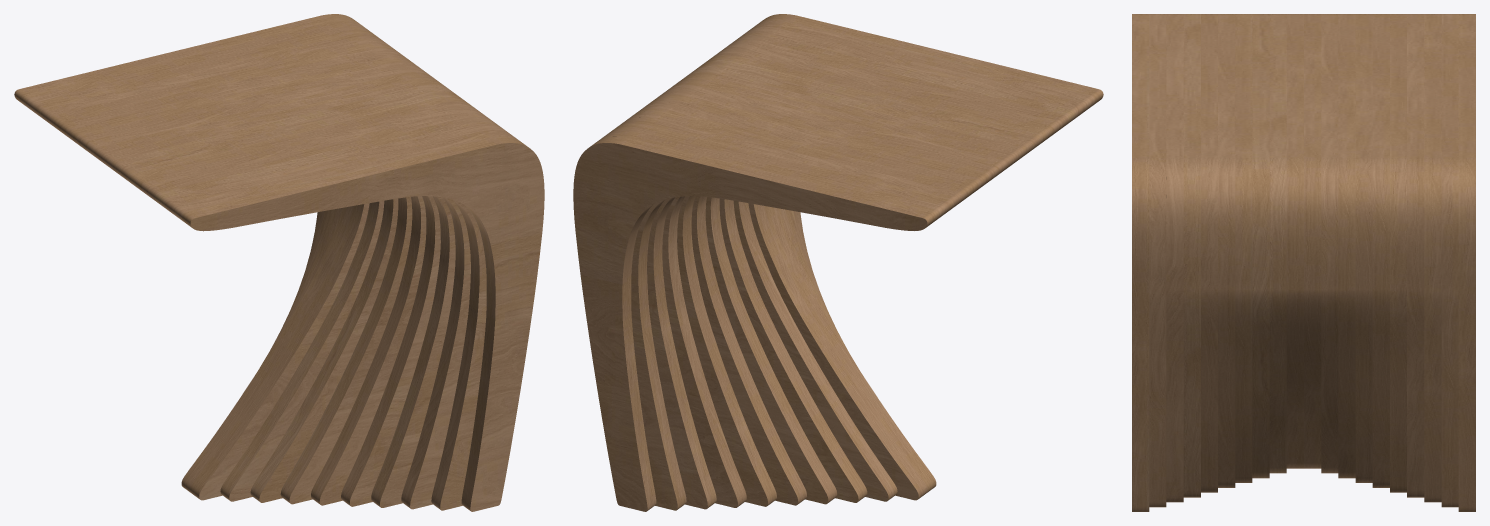
File: .fbx 1024 Woodbang Touchey side table.fbx
3 views of the same model, side by side, from view 1: azimuth 30°, elevation 25°; view 2: azimuth 150°, elevation 25°; view 3: azimuth 270°, elevation 25° (orthographic). The views are drawn at different scales.
Visible parts, largest first — view 1: Object_10, Object_2, Object_3, Object_4, Object_1, Object_5, Object_6, Object_7, Object_8, Object_9, Object_11, Object_12 (+8 smaller); view 2: Object_20, Object_11, Object_12, Object_13, Object_14, Object_15, Object_16, Object_17, Object_18, Object_19, Object_2, Object_3 (+8 smaller); view 3: Object_20, Object_10, Object_19, Object_9, Object_18, Object_8, Object_17, Object_7, Object_15, Object_5, Object_14, Object_1 (+8 smaller).
Part boxes in pixels (x1,y1,x2,y2): Object_10: (181,136,544,511); Object_2: (102,78,448,500); Object_3: (111,85,456,501); Object_4: (120,91,465,502); Object_1: (129,97,474,504); Object_5: (137,104,483,505); Object_6: (146,110,491,506); Object_7: (155,117,501,507); Object_8: (164,123,509,509); Object_9: (173,130,517,510); Object_11: (93,72,439,492); Object_12: (85,65,431,366); Object_20: (573,136,936,511); Object_11: (668,78,1015,500); Object_12: (660,85,1006,501); Object_13: (652,91,997,502); Object_14: (643,97,988,504); Object_15: (634,104,980,505); Object_16: (626,110,971,506); Object_17: (616,117,962,507); Object_18: (608,123,953,509); Object_19: (599,130,944,510); Object_2: (678,72,1024,492); Object_3: (686,65,1032,366); Object_20: (1458,14,1475,511); Object_10: (1132,14,1149,511); Object_19: (1441,14,1458,507); Object_9: (1149,14,1166,507); Object_18: (1424,14,1441,502); Object_8: (1166,14,1183,502); Object_17: (1407,14,1424,497); Object_7: (1183,14,1200,497); Object_15: (1372,14,1389,487); Object_5: (1218,14,1235,487); Object_14: (1355,14,1372,482); Object_1: (1235,14,1252,482).
Bounding box in the file's own units: 46.41 × 40 × 45.3.
1 material, 1 textured.
